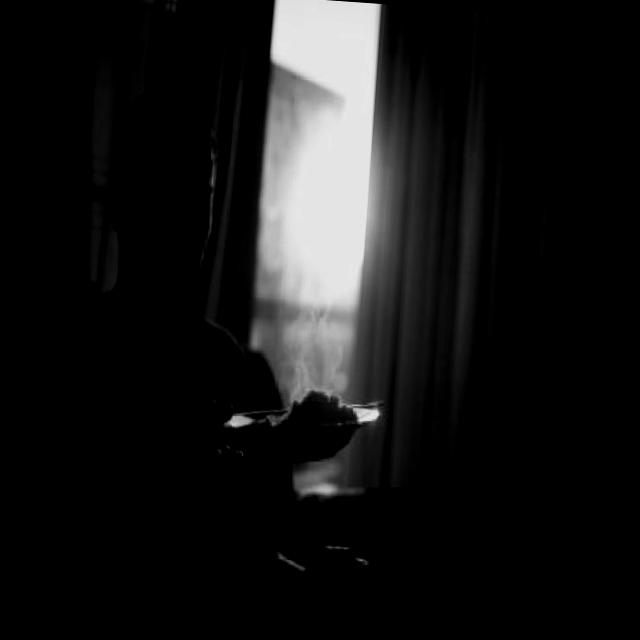Person: (82, 78, 295, 504)
